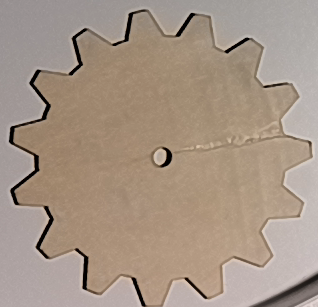Crack: (172, 116, 289, 155)
